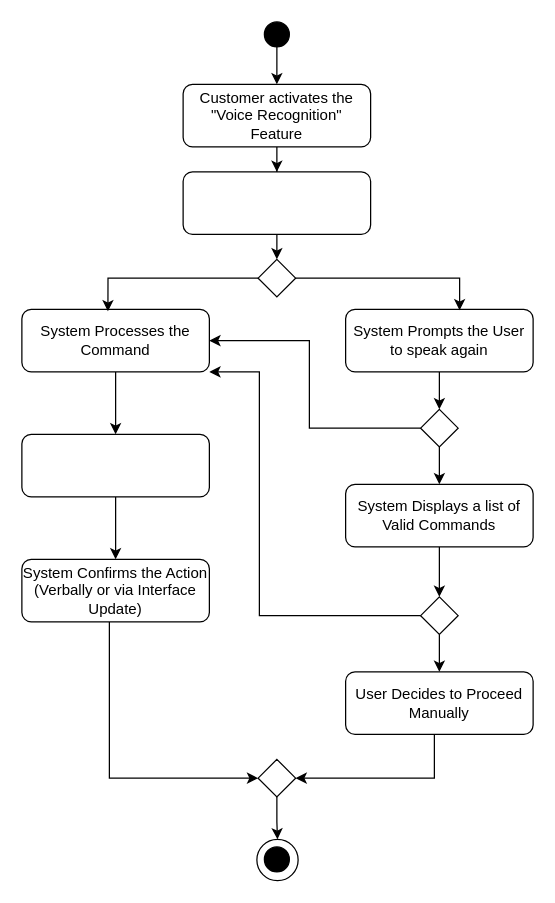
Some shapes in this 555 by 903 pixel diagram are drawn without their labels. The centre of each missing label's shape, as x and y in pixels:
"System listens for the User's Voice Command" belongs at pixel 276 202.
"System Perform the Requested Action" belongs at pixel 115 465.
